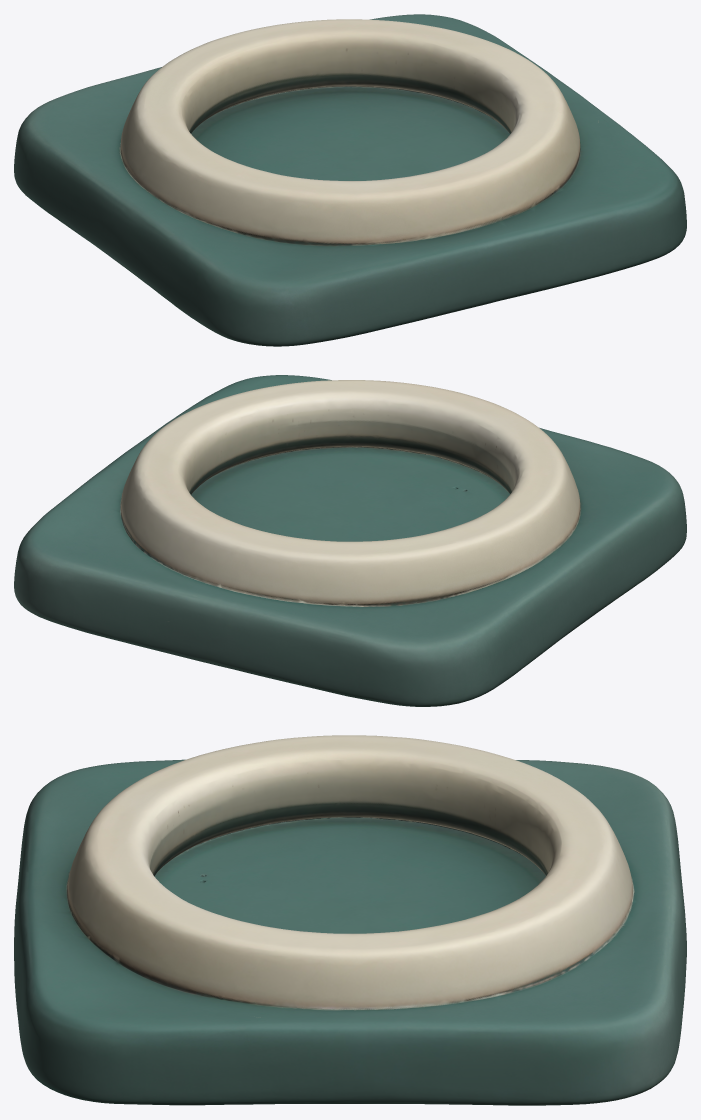
File: tripo_convert_569b409b-b405-4d20-b642-54de561362dd.fbx
The picture shows the model from 3 angles, top to bottom: view 1: azimuth 30°, elevation 25°; view 2: azimuth 150°, elevation 25°; view 3: azimuth 270°, elevation 25°; orthographic projection. The views are drawn at different scales.
Parts seen in each view (by area): view 1: tripo_node_569b409b; view 2: tripo_node_569b409b; view 3: tripo_node_569b409b.
Boxes of the visible parts, x1=… form: tripo_node_569b409b: x1=14, y1=14, x2=686, y2=346; tripo_node_569b409b: x1=14, y1=375, x2=686, y2=706; tripo_node_569b409b: x1=14, y1=735, x2=686, y2=1105.
Bounding box in the file's own units: 0.9801 × 0.2017 × 0.9797.
1 material, 1 textured.
